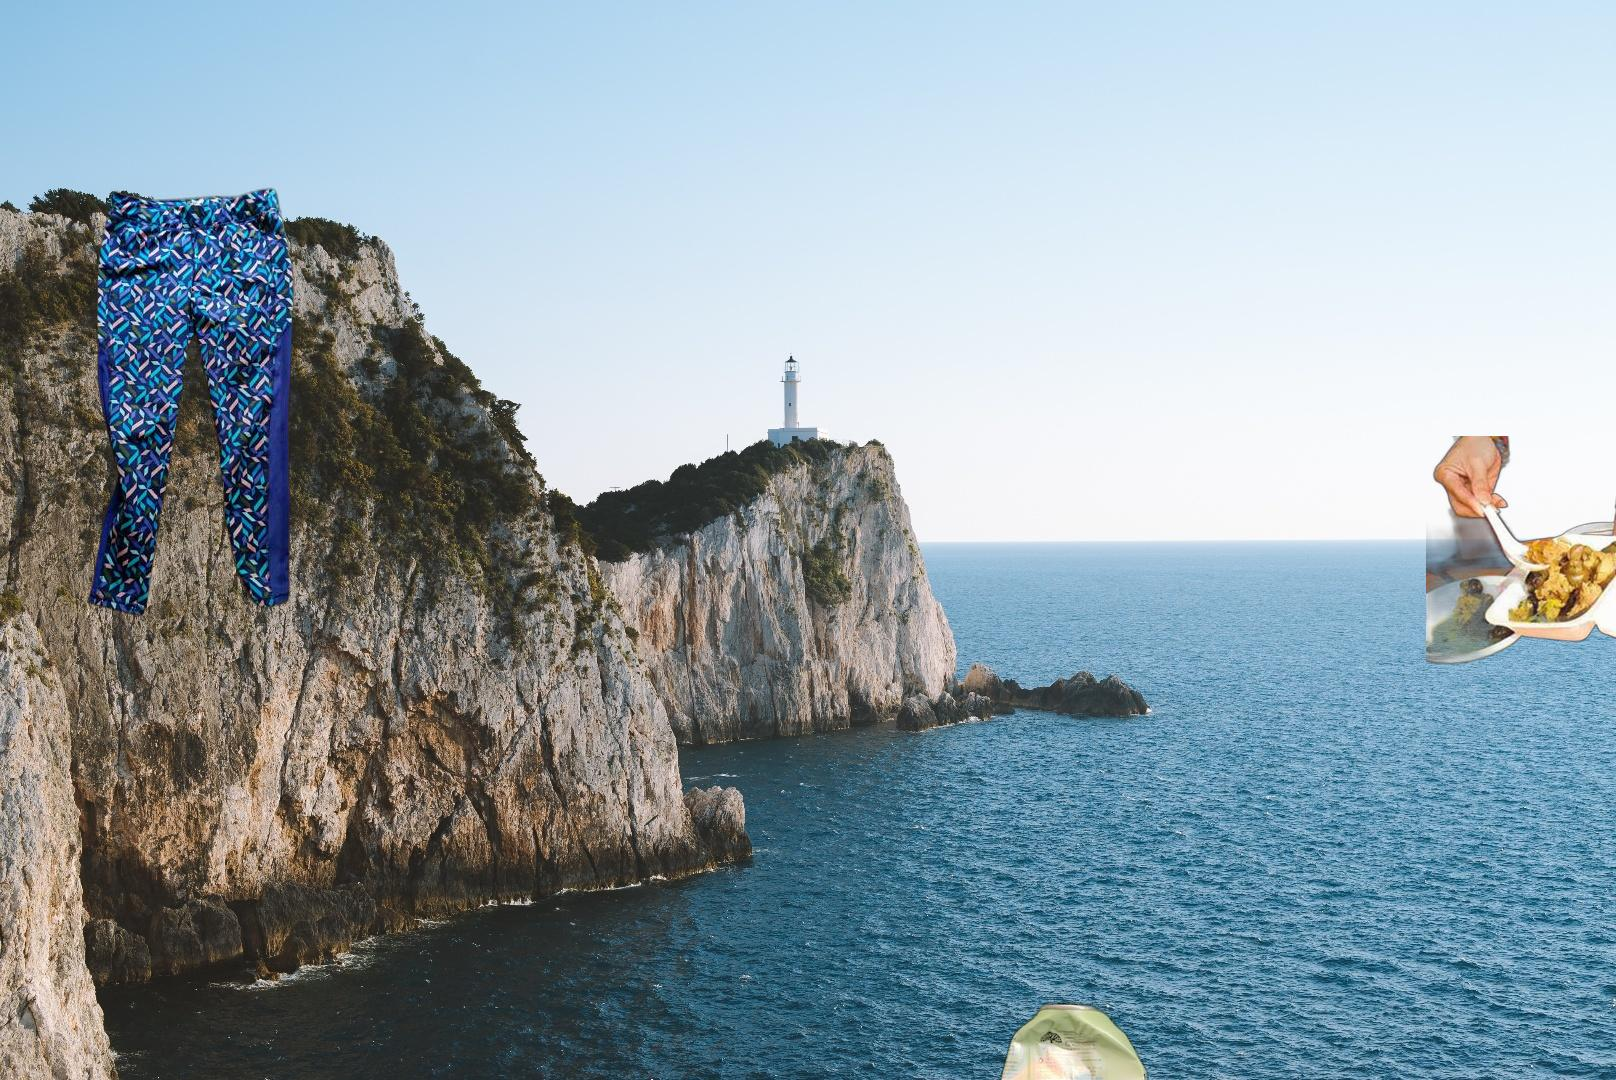biological: (1426, 436, 1616, 683)
clothes: (86, 184, 296, 621)
metal-cans: (997, 997, 1152, 1080)
